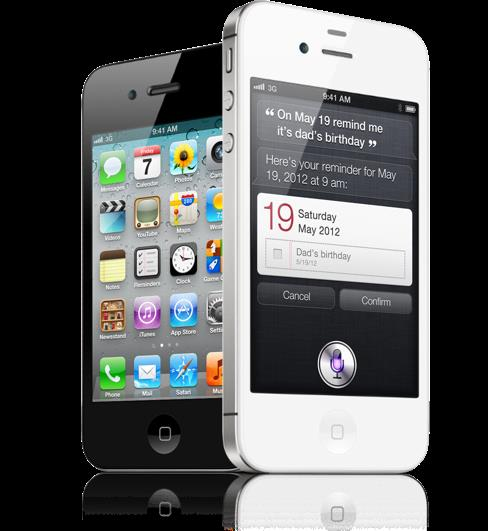iphone: (86, 45, 259, 471)
